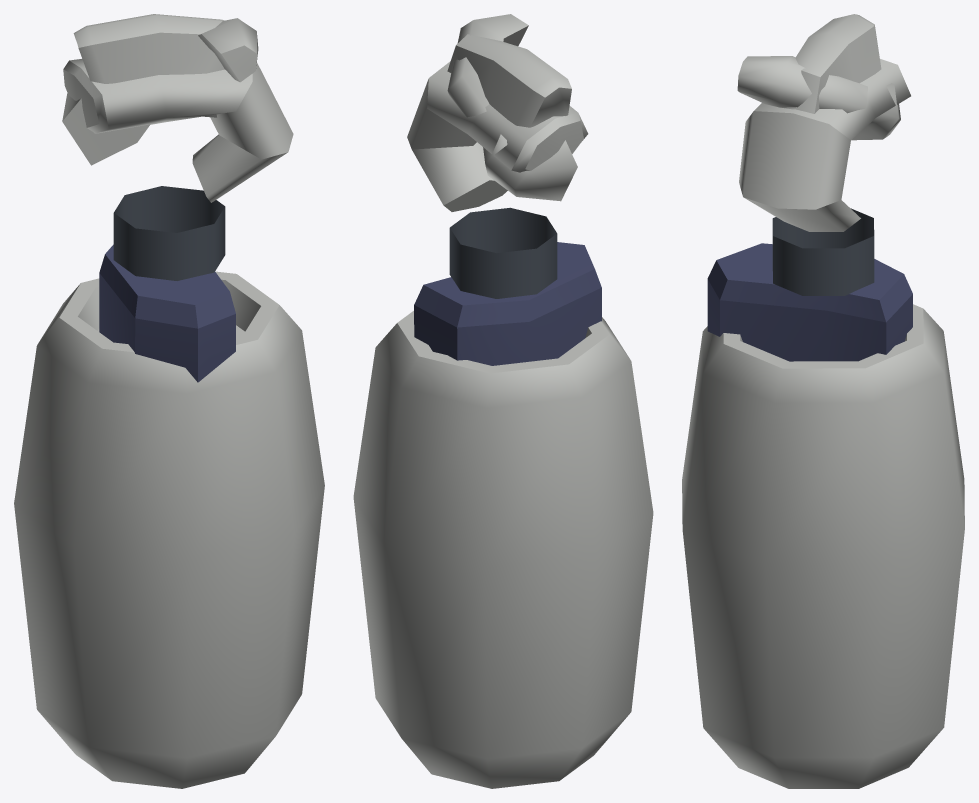
3 renders of one model, left to right at view 1: azimuth 30°, elevation 25°; view 2: azimuth 150°, elevation 25°; view 3: azimuth 270°, elevation 25°, orthographic. The views are drawn at different scales.
Visible parts, largest first — view 1: model:polySurface37, model:polySurface42, model:polySurface34, model:polySurface36, model:polySurface45, model:polySurface43; view 2: model:polySurface37, model:polySurface34, model:polySurface42, model:polySurface36, model:polySurface45, model:polySurface43; view 3: model:polySurface37, model:polySurface34, model:polySurface42, model:polySurface36, model:polySurface43, model:polySurface45.
Part boxes in pixels (box(x1,y1,x2,y2)): model:polySurface37: box(14, 271, 324, 788); model:polySurface42: box(63, 59, 293, 202); model:polySurface34: box(99, 244, 235, 382); model:polySurface36: box(113, 186, 225, 280); model:polySurface45: box(73, 14, 224, 117); model:polySurface43: box(62, 18, 258, 165); model:polySurface37: box(353, 311, 653, 788); model:polySurface34: box(414, 242, 601, 365); model:polySurface42: box(407, 61, 588, 211); model:polySurface36: box(449, 207, 557, 298); model:polySurface45: box(447, 34, 571, 127); model:polySurface43: box(447, 14, 577, 201); model:polySurface37: box(682, 304, 964, 788); model:polySurface34: box(707, 243, 912, 361); model:polySurface42: box(739, 59, 910, 231); model:polySurface36: box(772, 208, 874, 295); model:polySurface43: box(737, 56, 900, 140); model:polySurface45: box(782, 14, 881, 113).
Bounding box in the file's own units: 115 × 322 × 115.
